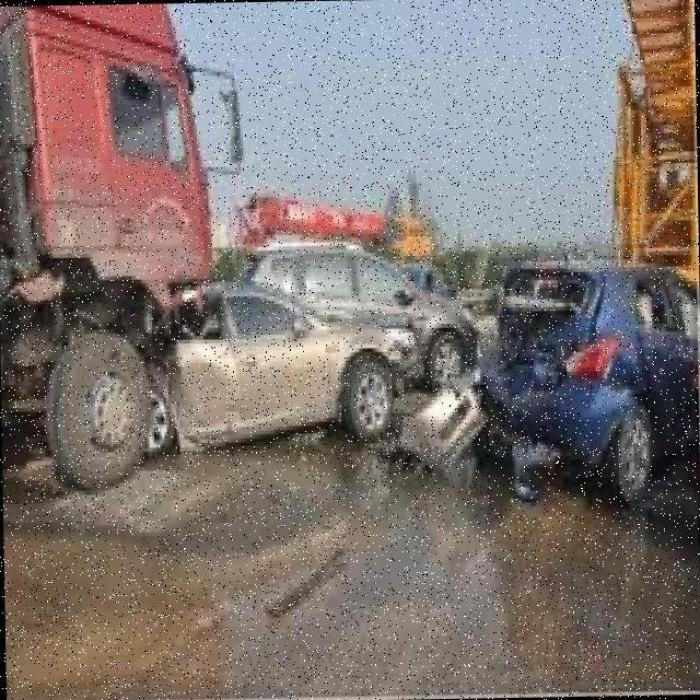Accident: (37, 165, 297, 511), (430, 239, 666, 504)
